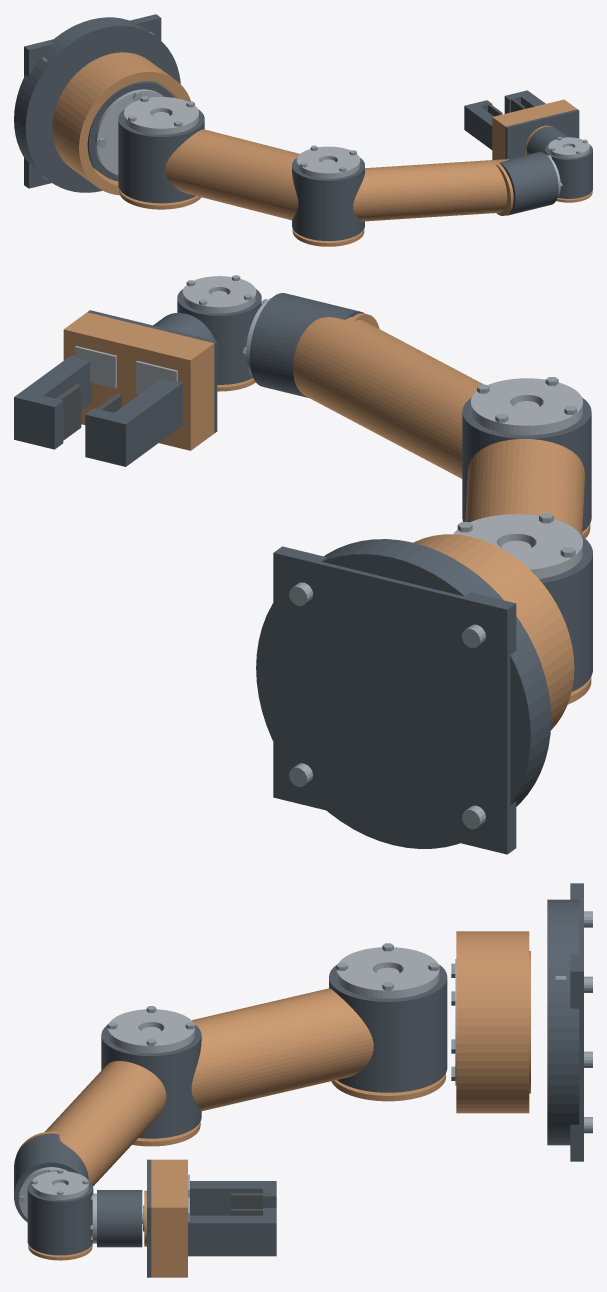
The model's file is assembly.glb.
The picture shows the model from 3 angles, top to bottom: view 1: azimuth 30°, elevation 25°; view 2: azimuth 150°, elevation 25°; view 3: azimuth 270°, elevation 25°; orthographic projection. The views are drawn at different scales.
Parts seen in each view (by area): view 1: part-000, part-002, part-004, part-001, part-026, part-042, part-058, part-034, part-018, part-107, part-050, part-106 (+9 smaller); view 2: part-000, part-004, part-106, part-002, part-001, part-113, part-058, part-050, part-034, part-117, part-026, part-042 (+7 smaller); view 3: part-002, part-001, part-000, part-026, part-004, part-042, part-106, part-034, part-117, part-074, part-050, part-090 (+7 smaller).
Boxes of the visible parts, x1,y1,x2,y2 form: part-000: (14, 14, 180, 192); part-002: (165, 129, 299, 220); part-004: (353, 159, 513, 221); part-001: (52, 52, 190, 195); part-026: (118, 109, 204, 203); part-042: (292, 158, 364, 240); part-058: (499, 151, 558, 215); part-034: (124, 97, 198, 134); part-018: (95, 89, 164, 175); part-107: (505, 109, 579, 159); part-050: (296, 146, 360, 178); part-106: (492, 99, 577, 159); part-000: (256, 539, 551, 854); part-004: (293, 317, 483, 478); part-106: (63, 312, 214, 450); part-002: (465, 439, 584, 535); part-001: (414, 534, 574, 730); part-113: (85, 378, 182, 466); part-058: (249, 293, 364, 397); part-050: (470, 378, 582, 435); part-034: (453, 514, 582, 578); part-117: (14, 355, 91, 449); part-026: (539, 536, 592, 691); part-042: (462, 397, 591, 531); part-002: (191, 988, 373, 1111); part-001: (456, 931, 529, 1113); part-000: (547, 883, 583, 1161); part-026: (329, 965, 447, 1092); part-004: (45, 1061, 166, 1186); part-042: (101, 1025, 201, 1138); part-106: (151, 1159, 187, 1277); part-034: (336, 947, 439, 998); part-117: (188, 1208, 276, 1256); part-074: (27, 1181, 93, 1255); part-050: (108, 1009, 194, 1053); part-090: (97, 1190, 142, 1247).
Bounding box in the file's own units: 0.1415 × 0.054 × 0.1272.
